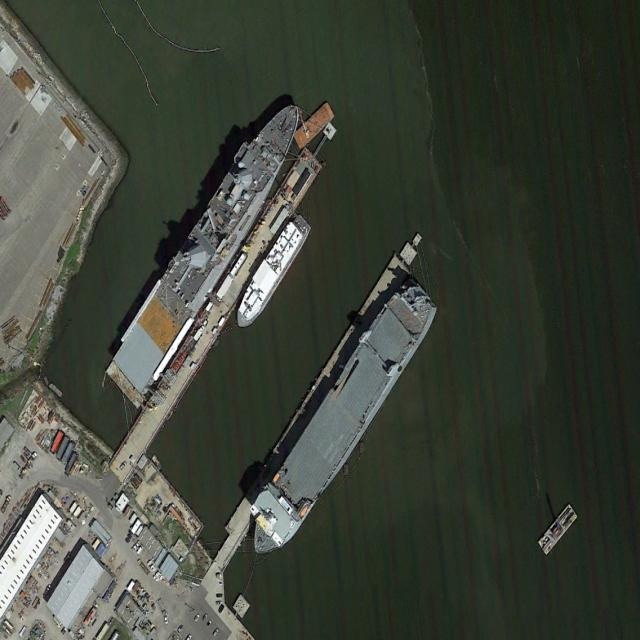Auxiliary Ships: (103, 86, 315, 409)
Cargo: (237, 266, 442, 574)
Other Ship: (230, 209, 312, 334)
